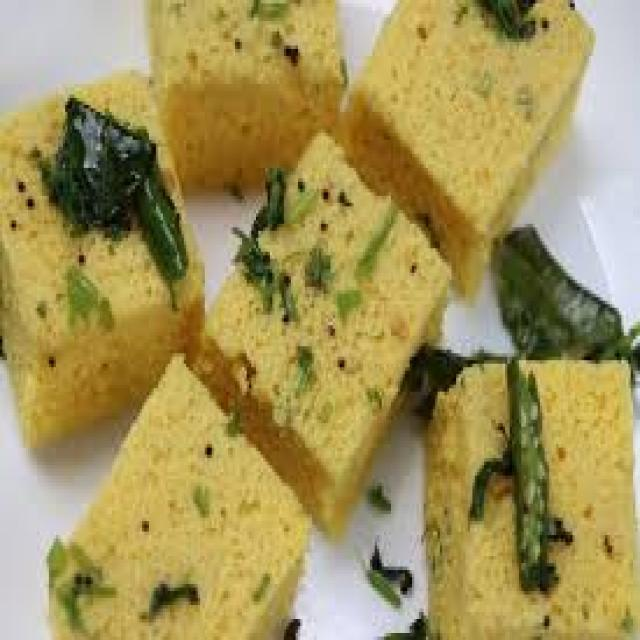DHOKLA: (202, 141, 443, 544), (0, 69, 201, 445), (337, 4, 593, 298), (45, 352, 307, 636), (419, 364, 638, 637), (145, 7, 340, 189)
